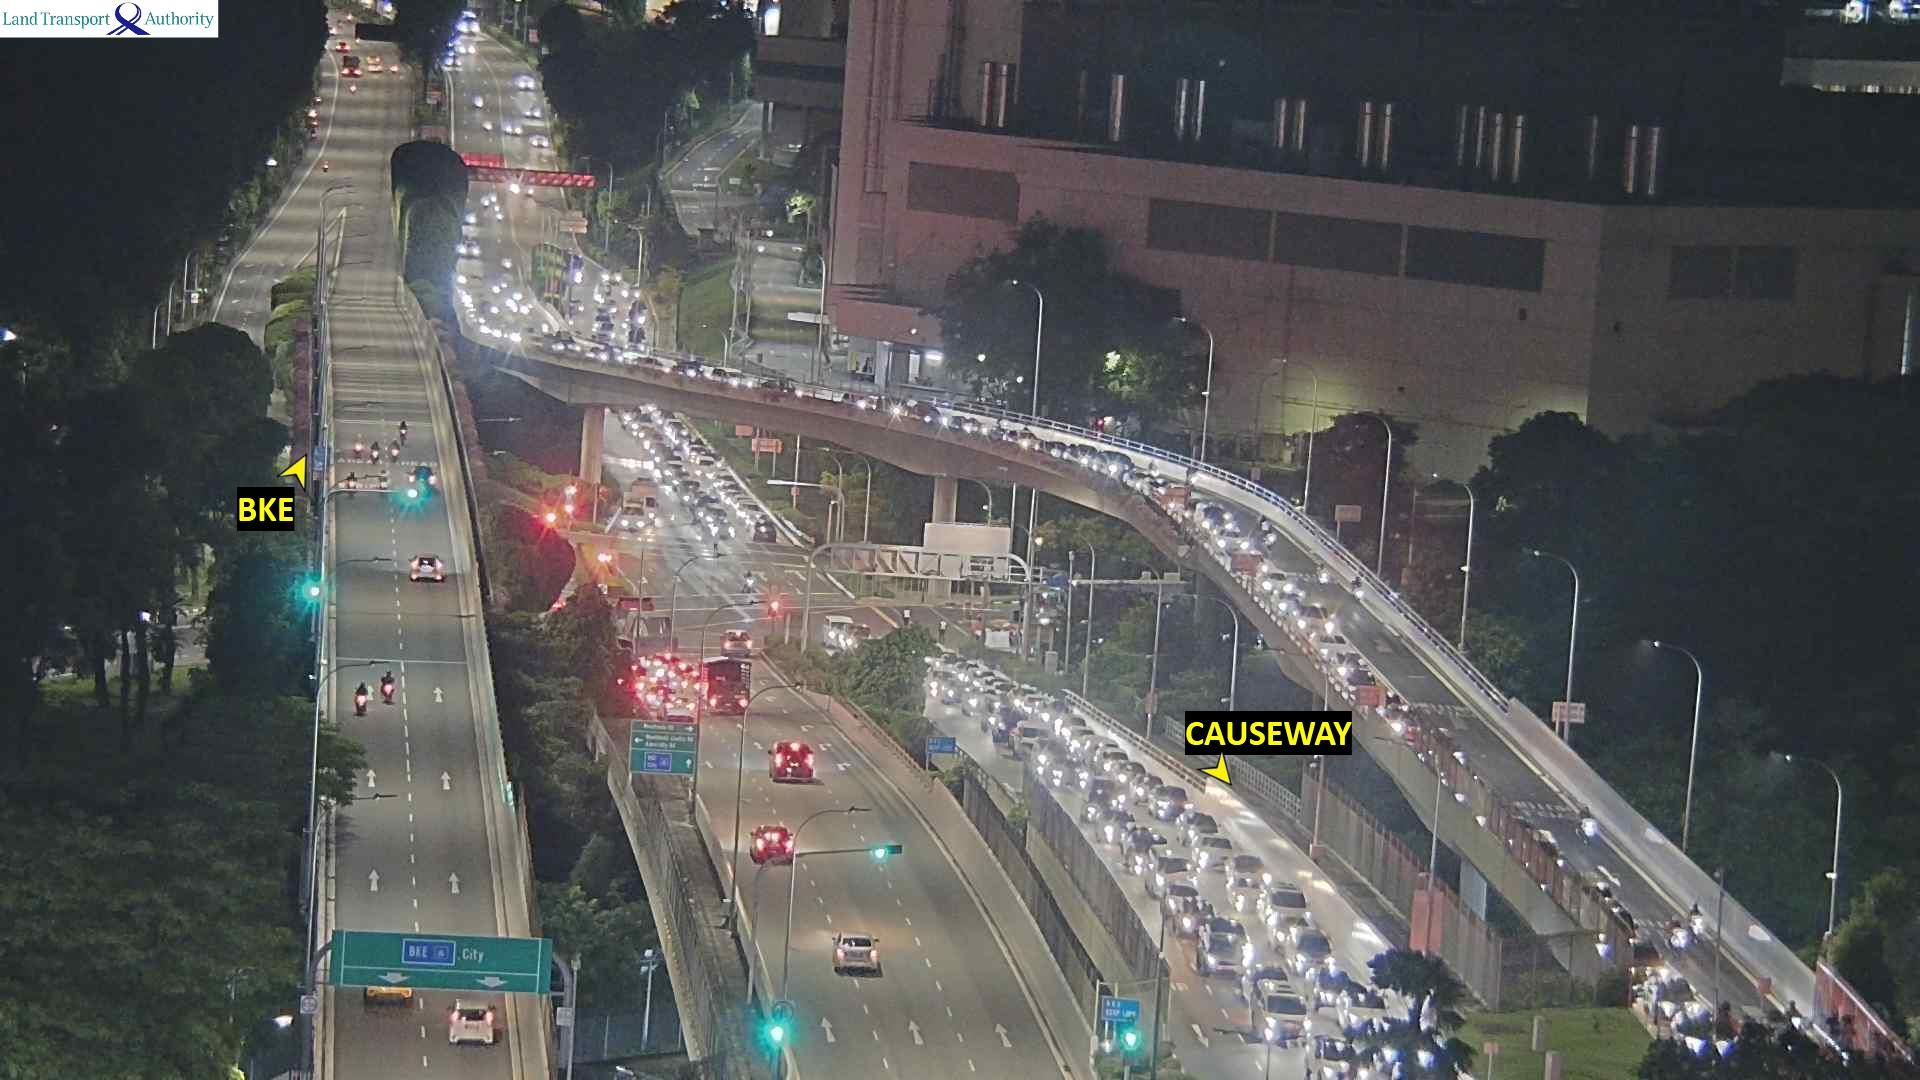vehicle-causeway-johor: (1255, 985, 1308, 1043), (1199, 922, 1242, 972), (1638, 976, 1691, 1017), (1286, 931, 1333, 976), (1307, 1036, 1354, 1079), (1149, 848, 1193, 891), (1262, 884, 1308, 924), (1228, 852, 1267, 899), (1660, 1007, 1712, 1043), (1151, 789, 1197, 825), (1126, 835, 1163, 873), (1015, 721, 1054, 754), (1192, 837, 1232, 868), (1178, 815, 1217, 844), (1036, 738, 1069, 773), (1630, 936, 1660, 973), (1005, 423, 1042, 452), (1048, 758, 1088, 785), (1098, 812, 1133, 843), (1081, 794, 1117, 823), (823, 616, 856, 645), (1134, 774, 1164, 804), (1096, 746, 1130, 773), (1015, 695, 1047, 723), (996, 717, 1034, 740), (1290, 605, 1328, 628), (1199, 506, 1232, 531), (703, 509, 733, 535), (1253, 571, 1288, 593), (1176, 905, 1209, 928), (1575, 804, 1594, 843), (985, 704, 1017, 728), (977, 675, 1005, 702), (1116, 762, 1146, 786), (949, 413, 985, 433), (1687, 899, 1704, 940), (907, 401, 940, 422), (1216, 533, 1249, 554), (935, 671, 960, 699), (690, 492, 717, 517), (633, 353, 669, 372), (1344, 671, 1379, 690), (1096, 455, 1134, 472), (1068, 727, 1097, 749), (843, 389, 874, 409), (969, 695, 997, 717), (840, 628, 869, 649), (1333, 651, 1366, 670), (1273, 592, 1303, 612), (1088, 779, 1113, 803), (1038, 704, 1065, 725), (543, 334, 575, 352), (1664, 916, 1683, 947), (1085, 741, 1113, 761), (671, 357, 699, 377), (760, 376, 791, 393), (1309, 633, 1344, 647), (1058, 719, 1083, 738), (752, 521, 778, 539), (715, 368, 742, 385), (948, 683, 972, 703), (993, 684, 1017, 704), (663, 465, 688, 484), (1065, 446, 1095, 462), (674, 473, 698, 492), (679, 481, 702, 500), (727, 489, 750, 506), (1040, 439, 1065, 455), (882, 397, 903, 415), (736, 501, 758, 518), (585, 345, 612, 360), (634, 418, 655, 435), (746, 510, 767, 526), (644, 434, 665, 450), (460, 241, 481, 257), (1350, 578, 1366, 599), (713, 475, 736, 489), (673, 431, 691, 448), (1315, 562, 1329, 583), (655, 451, 674, 467), (719, 483, 736, 498), (690, 447, 707, 463), (732, 496, 749, 510), (1265, 530, 1276, 547), (1258, 516, 1269, 530)
vehicle-causeway-singapore: (700, 659, 750, 708), (831, 931, 884, 977), (454, 1001, 498, 1055), (771, 740, 819, 790), (753, 819, 793, 869), (363, 986, 417, 1017), (417, 556, 459, 584), (407, 465, 435, 493), (721, 629, 748, 651), (388, 675, 401, 705), (356, 682, 367, 709), (398, 419, 407, 447), (378, 468, 388, 493), (353, 434, 361, 455), (348, 472, 355, 493), (390, 440, 397, 460), (371, 442, 376, 462)
